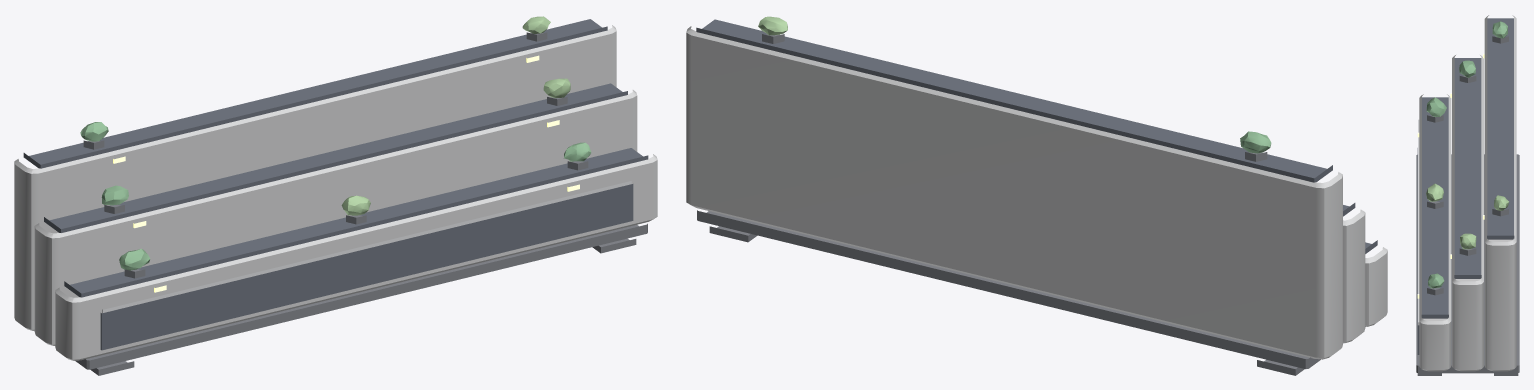
File: hydro_planter_tiered_ts2_04.glb
The picture shows the model from 3 angles, left to right: view 1: azimuth 30°, elevation 25°; view 2: azimuth 150°, elevation 25°; view 3: azimuth 270°, elevation 25°; orthographic projection. The views are drawn at different scales.
Visible parts, largest first — view 1: Tiers, Tier_Lids, Reservoir, Base_Frame, Reservoir_Seal, Foliage, Foliage_Light, Net_Cup_Clips, Clamp_Shoes; view 2: Tiers, Tier_Lids, Base_Frame, Clamp_Shoes; view 3: Tier_Lids, Tiers, Base_Frame, Foliage, Net_Cup_Clips, Foliage_Light, Reservoir_Seal, Reservoir, Clamp_Shoes.
Part boxes in pixels (x1,y1,x2,y2): Tiers: [14, 25, 657, 360]; Tier_Lids: [23, 19, 648, 297]; Reservoir: [100, 184, 633, 350]; Base_Frame: [75, 223, 647, 369]; Reservoir_Seal: [102, 181, 631, 313]; Foliage: [80, 122, 591, 270]; Foliage_Light: [341, 16, 570, 215]; Net_Cup_Clips: [83, 32, 588, 278]; Clamp_Shoes: [90, 238, 636, 375]; Tiers: [686, 26, 1387, 359]; Tier_Lids: [696, 19, 1377, 253]; Base_Frame: [697, 210, 1365, 369]; Clamp_Shoes: [709, 226, 1304, 375]; Tier_Lids: [1421, 18, 1514, 318]; Tiers: [1419, 15, 1516, 371]; Base_Frame: [1416, 154, 1519, 373]; Foliage: [1426, 21, 1507, 288]; Net_Cup_Clips: [1427, 36, 1508, 295]; Foliage_Light: [1426, 183, 1508, 249]; Reservoir_Seal: [1418, 119, 1419, 325]; Reservoir: [1417, 148, 1419, 354]; Clamp_Shoes: [1417, 373, 1518, 375].
Bounding box in the file's own units: 2 × 0.6591 × 0.38.
